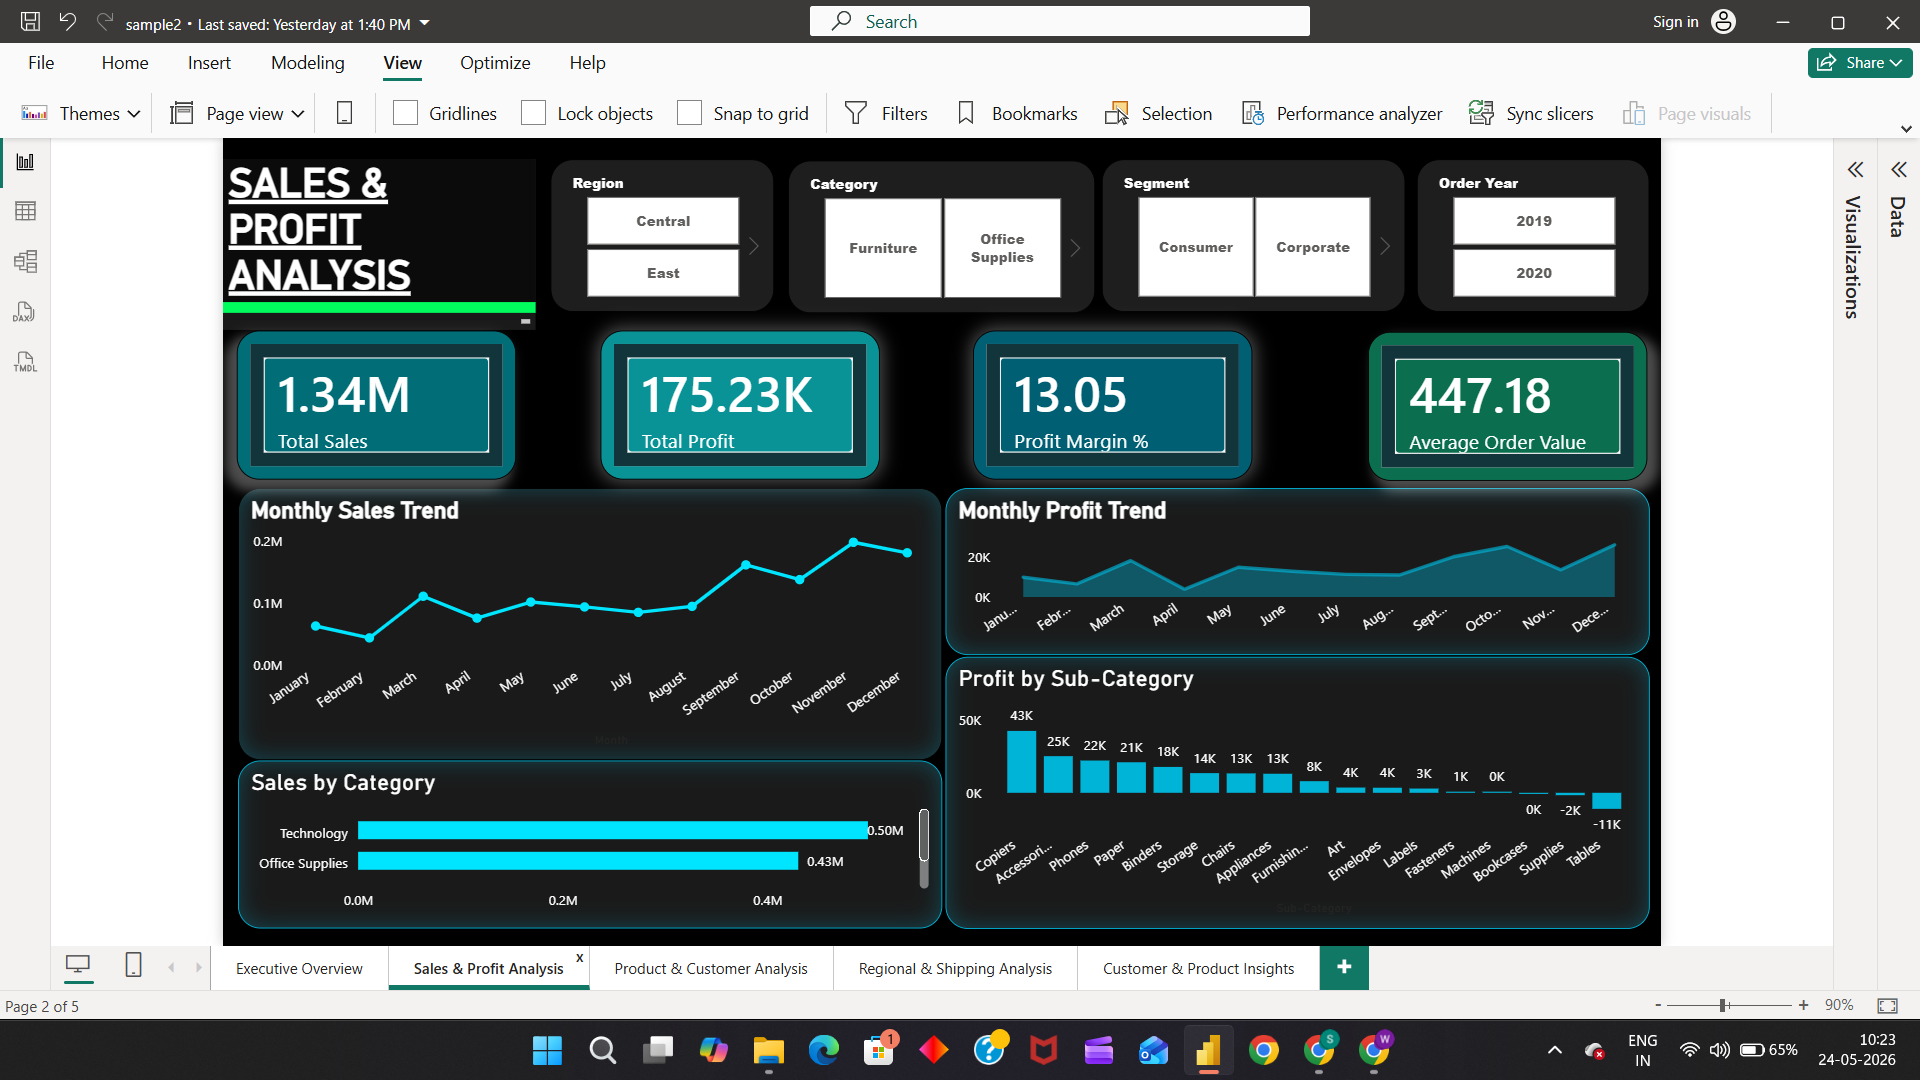

The page's visual inventory and layout, read from the dashboard file:
{"tool":"powerbi","page":{"name":"Sales & Profit Analysis","canvas":[1280,720],"ordinal":1},"visuals":[{"type":"textbox","title":"SALES & PROFIT ANALYSIS","box":[0,19.3,278.7,152],"z":0},{"type":"slicer","fields":{"Values":["Orders.Order Year"]},"box":[1062.9,19.3,207.5,136.3],"z":1000},{"type":"slicer","fields":{"Values":["Orders.Segment"]},"box":[783,19.3,270.2,136.3],"z":2000},{"type":"slicer","fields":{"Values":["Orders.Category"]},"box":[503.1,20.5,273.9,136.3],"z":3000},{"type":"slicer","fields":{"Values":["Orders.Region"]},"box":[292,19.3,199.1,136.3],"z":4000},{"type":"lineChart","title":"Monthly Sales Trend","fields":{"Category":["Orders.Month"],"Y":["Orders.Total Sales"]},"box":[13,311.8,627.1,242.1],"z":5000},{"type":"areaChart","title":"Monthly Profit Trend","fields":{"Category":["Orders.Month"],"Y":["Orders.Total Profit"]},"box":[643.7,311.8,627.1,149],"z":6000},{"type":"clusteredBarChart","title":"Sales by Category","fields":{"Category":["Orders.Category"],"Y":["Orders.Total Sales"]},"box":[13,553.9,627.1,150],"z":7000},{"type":"clusteredColumnChart","title":"Profit by Sub-Category","fields":{"Category":["Orders.Sub-Category"],"Y":["Orders.Total Profit"]},"box":[643.7,461.8,627.1,242.1],"z":8000},{"type":"cardVisual","fields":{"Data":["Orders.Total Profit"]},"box":[335.8,171,249,133],"z":9000},{"type":"cardVisual","fields":{"Data":["Orders.Profit Margin %"]},"box":[668.4,171,249,133],"z":10000},{"type":"cardVisual","fields":{"Data":["Orders.Average Order Value"]},"box":[1020,172.1,249,133],"z":11000},{"type":"cardVisual","fields":{"Data":["Orders.Total Sales"]},"box":[12.6,171,249,133],"z":12000}]}

Visuals, with their boxes on the page's 1280x720 design canvas (x1, y1, x2, y2). These are canvas units, not pixel positions in the 1920x1080 screenshot, which may show the page scaled, cropped or inside an application window:
"SALES & PROFIT ANALYSIS" textbox: [x1=0, y1=19, x2=279, y2=171]
slicer - Orders.Order Year: [x1=1063, y1=19, x2=1270, y2=156]
slicer - Orders.Segment: [x1=783, y1=19, x2=1053, y2=156]
slicer - Orders.Category: [x1=503, y1=20, x2=777, y2=157]
slicer - Orders.Region: [x1=292, y1=19, x2=491, y2=156]
"Monthly Sales Trend" lineChart: [x1=13, y1=312, x2=640, y2=554]
"Monthly Profit Trend" areaChart: [x1=644, y1=312, x2=1271, y2=461]
"Sales by Category" clusteredBarChart: [x1=13, y1=554, x2=640, y2=704]
"Profit by Sub-Category" clusteredColumnChart: [x1=644, y1=462, x2=1271, y2=704]
cardVisual - Orders.Total Profit: [x1=336, y1=171, x2=585, y2=304]
cardVisual - Orders.Profit Margin %: [x1=668, y1=171, x2=917, y2=304]
cardVisual - Orders.Average Order Value: [x1=1020, y1=172, x2=1269, y2=305]
cardVisual - Orders.Total Sales: [x1=13, y1=171, x2=262, y2=304]
